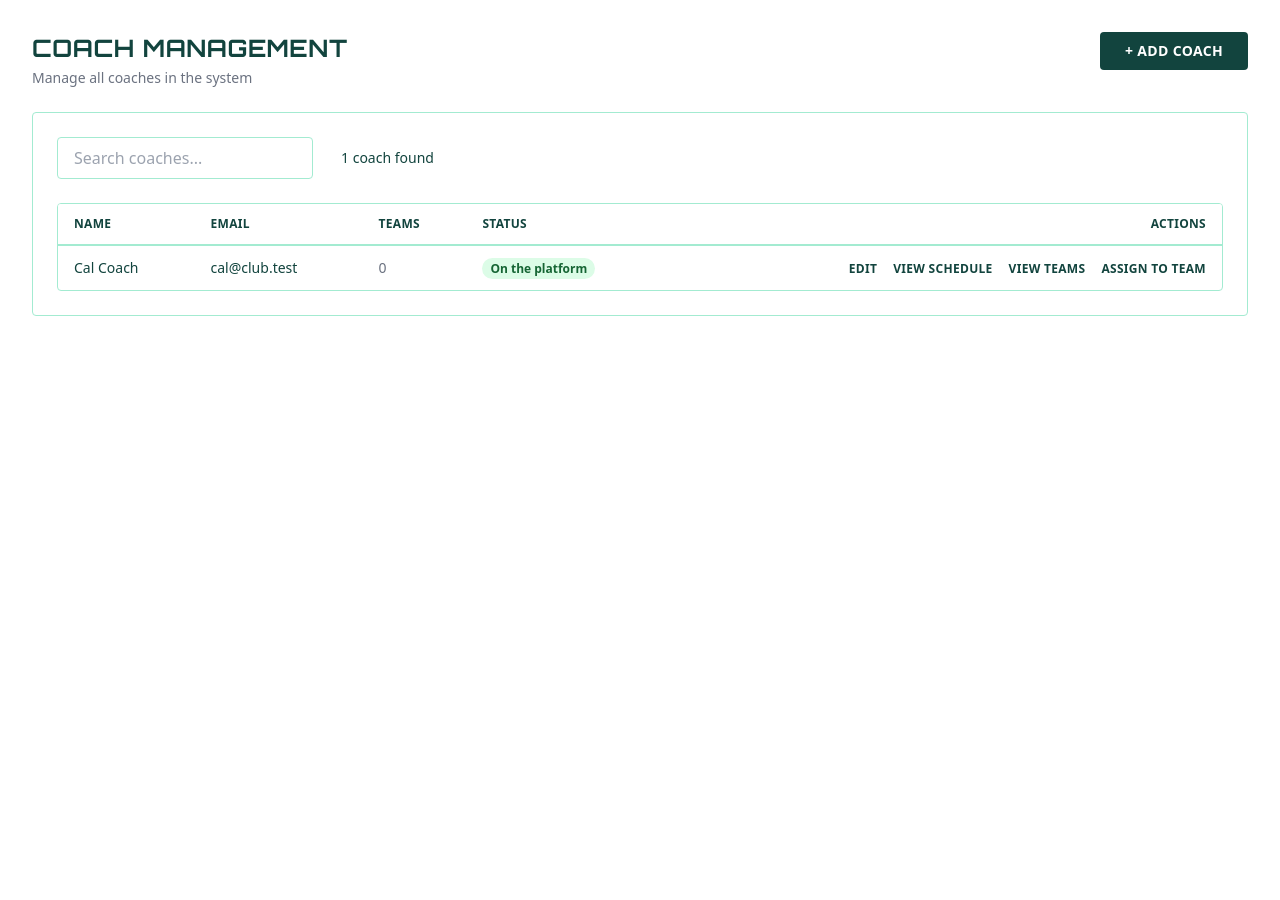
Test: View Teams lists head, assistant and manager roles with an Unassign control each
Click the button "View Teams" at [1047, 269], box [1009,261,1085,277]
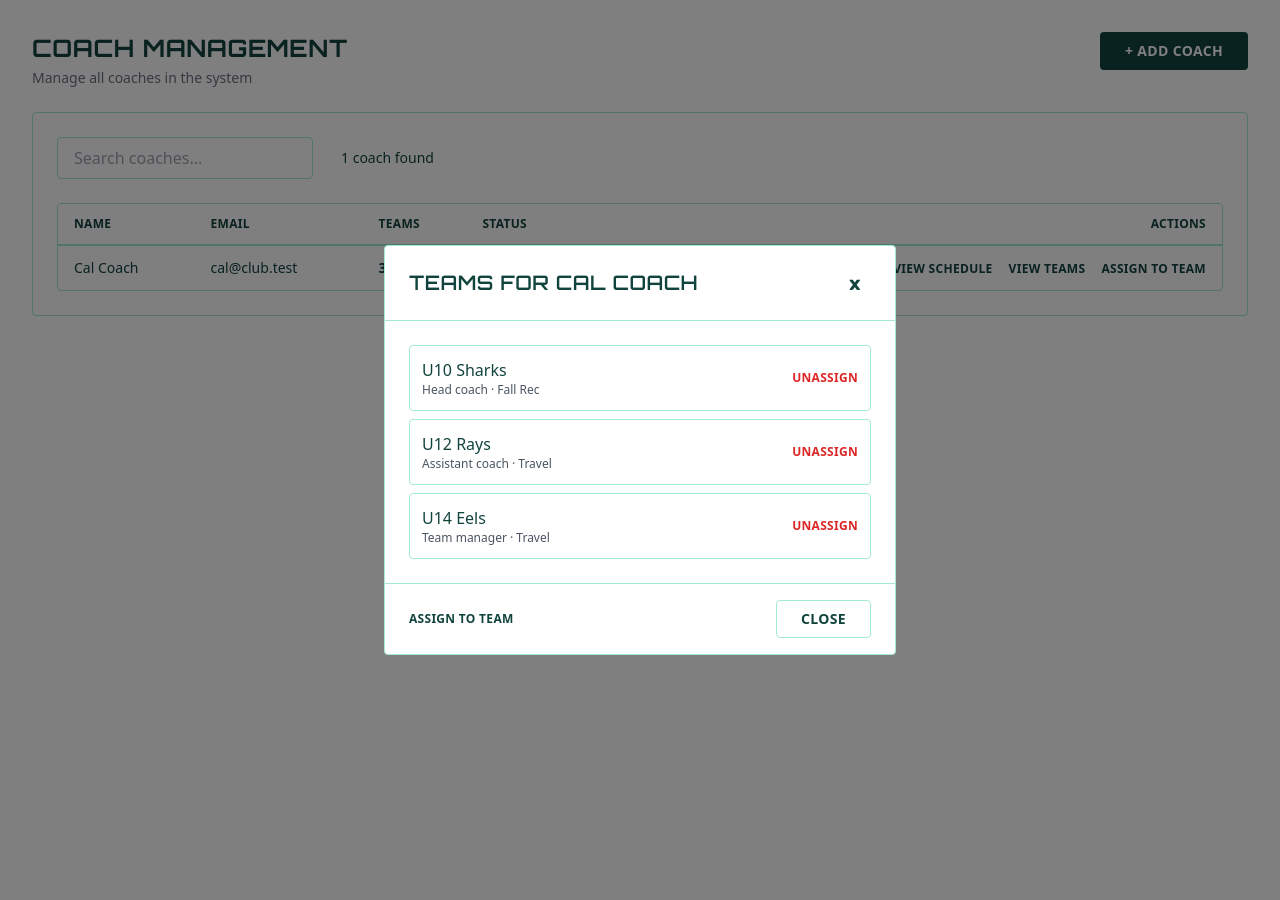
Expected: the text "U10 Sharks" is shown, [422,359,507,381]
Expected: the text "Head coach · Fall Rec" is shown, [422,382,540,398]
Expected: the text "Assistant coach · Travel" is shown, [422,456,552,472]
Click the button "Unassign" in the row of "U12 Rays" at [825, 452], box [792,444,858,460]
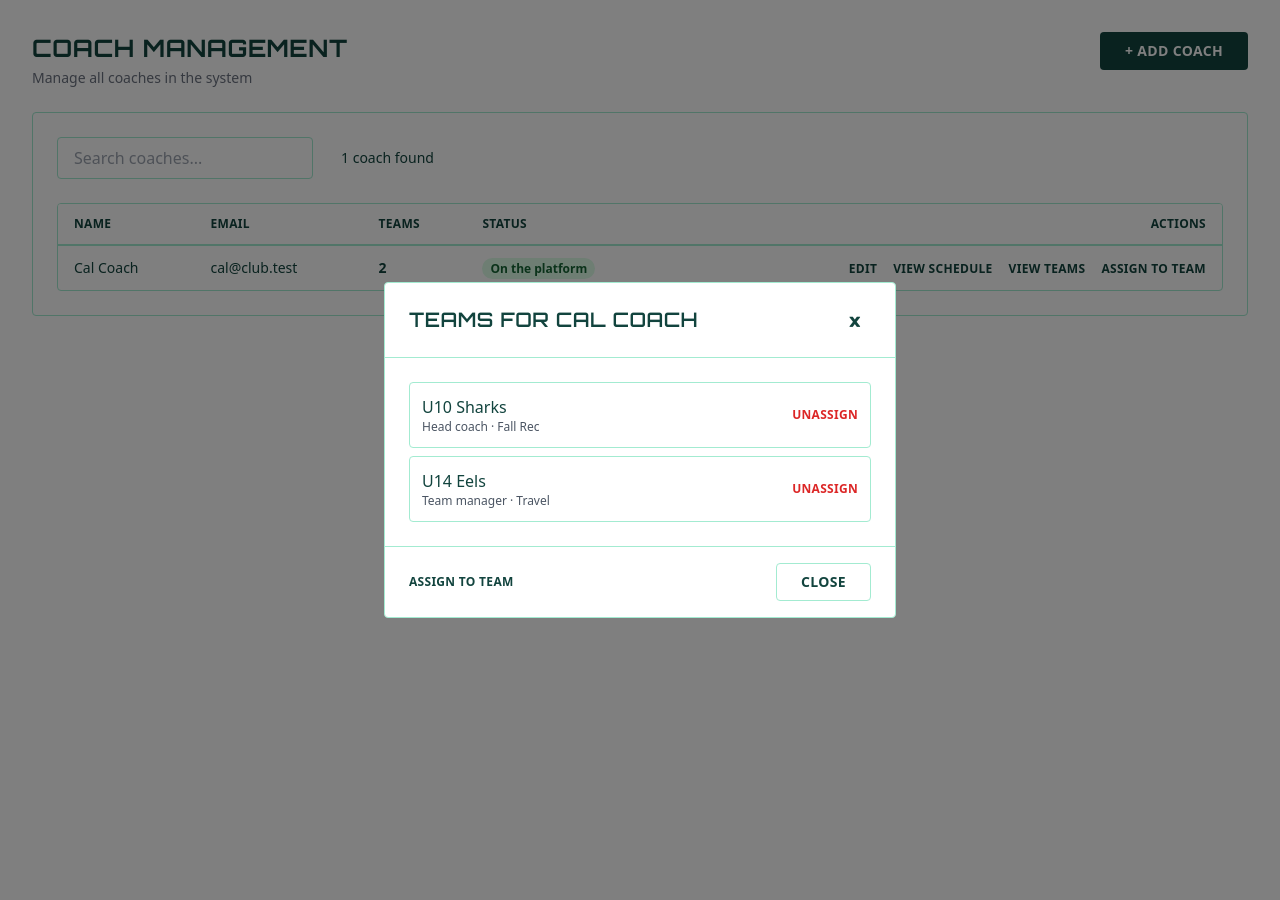
Expected: the text "U12 Rays" is gone
Expected: the number of buttons "Unassign" is 2, [792,407,858,423]; [792,481,858,497]
